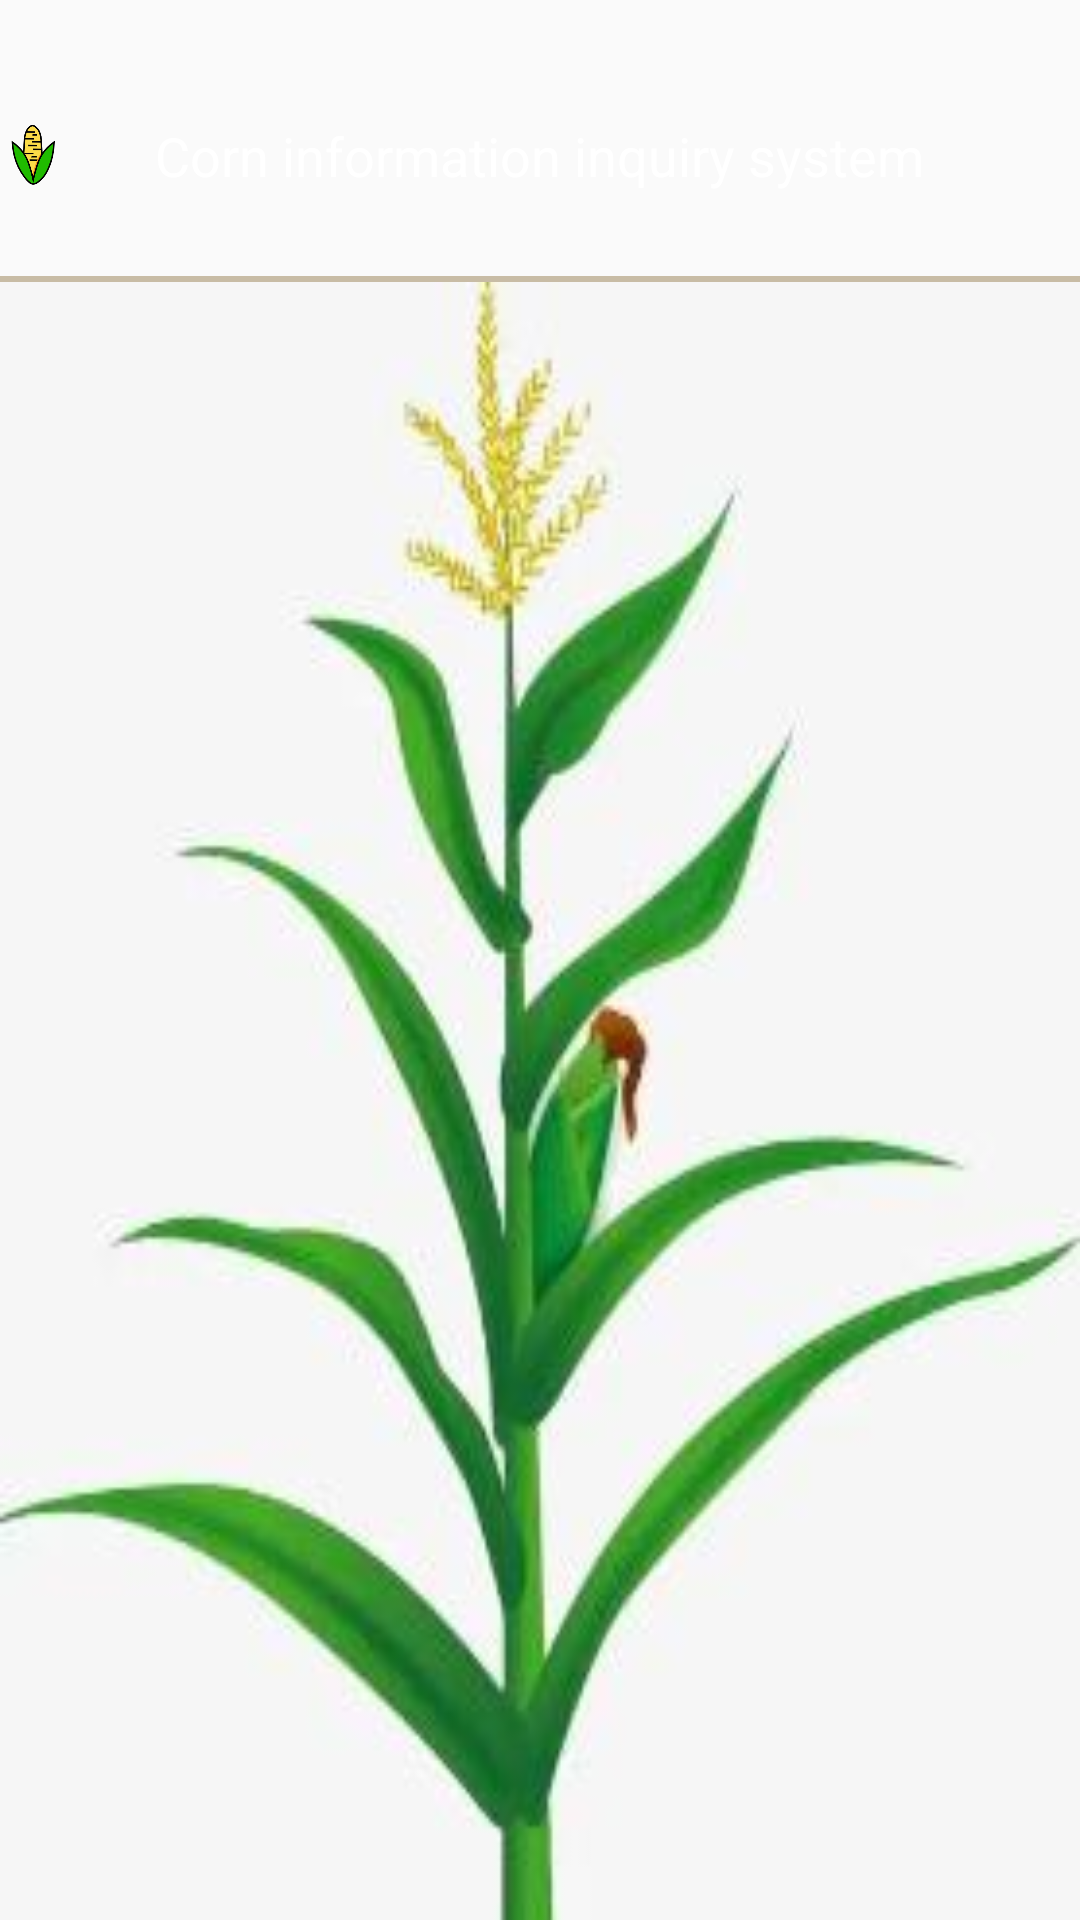

Screen size 1080×1920. Icon name, then its box in pixels as {"x1": x1, "y1": y1, "x2": x2, "y2": y2}:
yumi: {"x1": 11, "y1": 125, "x2": 55, "y2": 185}
